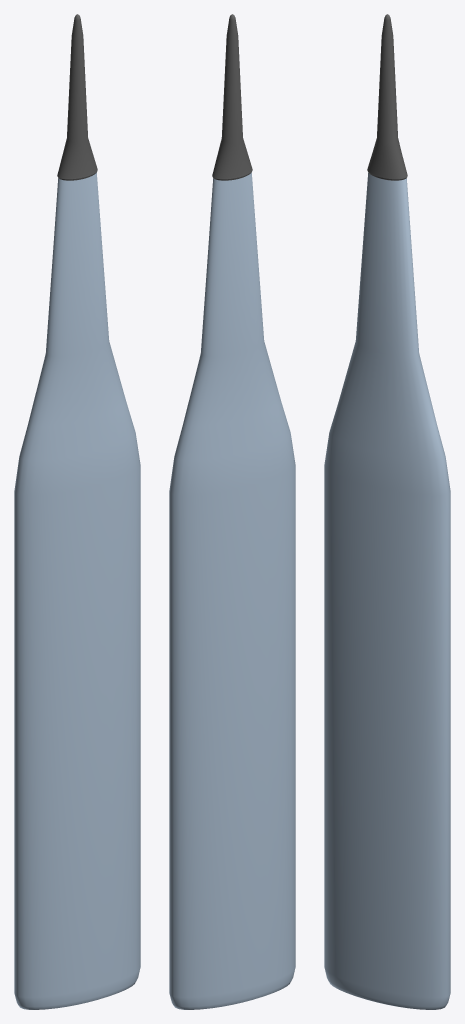
File: Thermometer.fbx
3 views of the same model, side by side, from view 1: azimuth 30°, elevation 25°; view 2: azimuth 210°, elevation 25°; view 3: azimuth 330°, elevation 25° (orthographic).
Parts seen in each view (by area): view 1: Cylinder, Sphere.001; view 2: Cylinder, Sphere.001; view 3: Cylinder, Sphere.001.
Boxes of the visible parts, bbox=[...] form: Cylinder: bbox=[14, 172, 140, 1009]; Sphere.001: bbox=[57, 14, 97, 180]; Cylinder: bbox=[169, 172, 295, 1009]; Sphere.001: bbox=[212, 14, 252, 180]; Cylinder: bbox=[324, 172, 450, 1009]; Sphere.001: bbox=[367, 14, 407, 180].
Bounding box in the file's own units: 306 × 2313 × 105.
